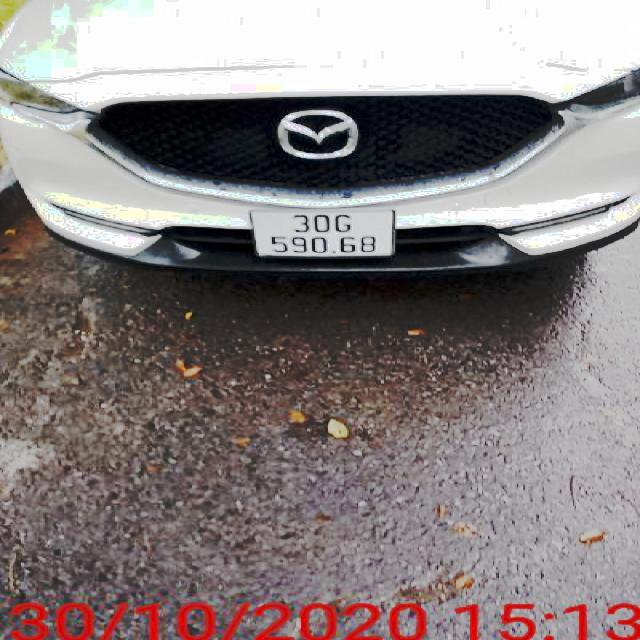license_plate: (253, 208, 393, 260)
